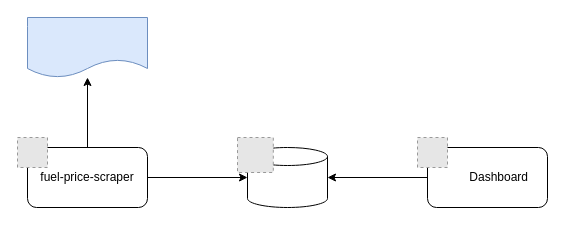
Some shapes in this 565 by 225 pixel diagram are drawn without their labels. Grey dashed boxes stand in for pictures. The shapes that lost their labels are listed below. From the top down, each one's box as (x1, y1, x2, y2) in pixels, then its label:
(26, 16, 148, 78): Fuel Price Webpage
(246, 146, 328, 208): Timescale DB
